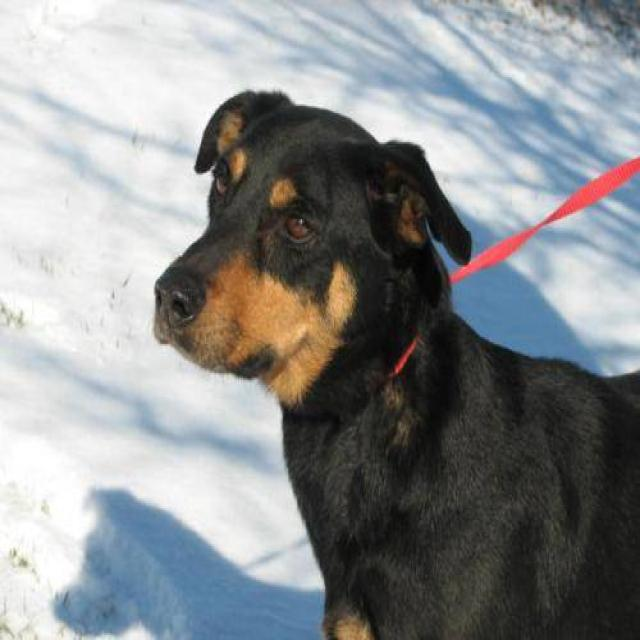dog: (151, 86, 639, 638)
